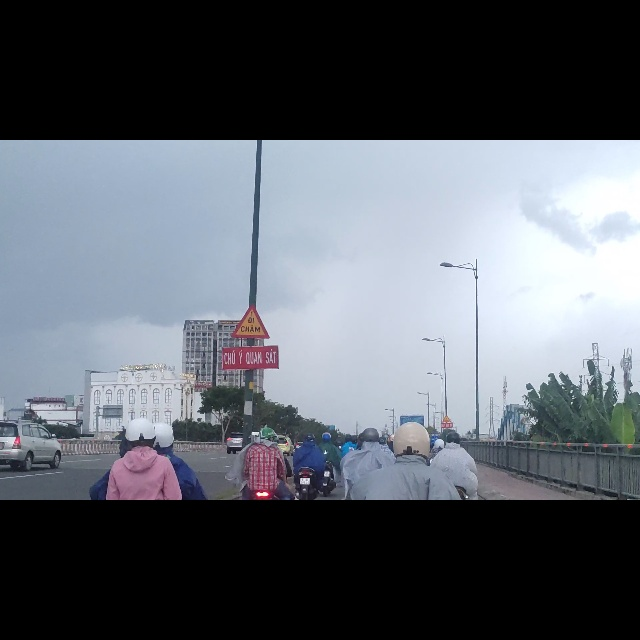bien_nguy_hiem: (231, 291, 270, 354)
